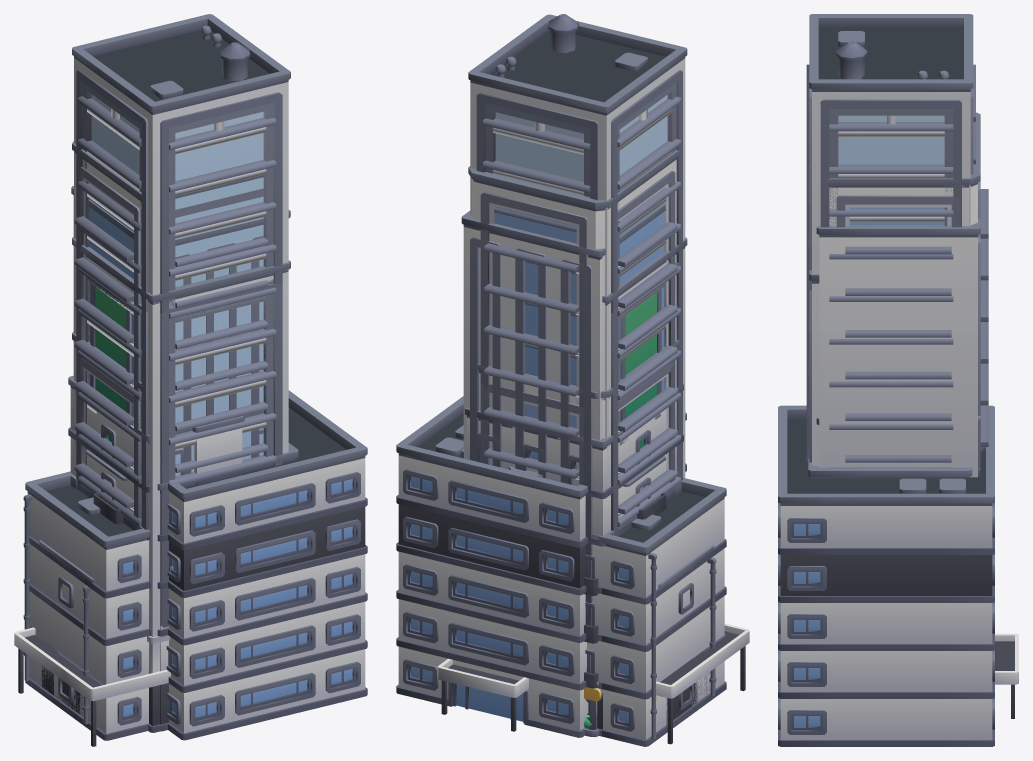
Rendered from commercial.glb.
3 views of the same model, side by side, from view 1: azimuth 30°, elevation 25°; view 2: azimuth 150°, elevation 25°; view 3: azimuth 270°, elevation 25° (orthographic).
Parts seen in each view (by area): view 1: building-skyscraper-d, building-n, building-skyscraper-c, building-j, building-skyscraper-b, building-skyscraper-e, building-k, building-skyscraper-a, building-m, building-l; view 2: building-n, building-skyscraper-d, building-skyscraper-b, building-skyscraper-e, building-j, building-m, building-skyscraper-a, building-skyscraper-c, building-k, building-i; view 3: building-n, building-skyscraper-d, building-skyscraper-e, building-skyscraper-b, building-skyscraper-c, building-skyscraper-a, building-l.
Part boxes in pixels (box(x1,y1,x2,y2)): building-skyscraper-d: box(72, 14, 290, 635); building-n: box(14, 390, 367, 746); building-skyscraper-c: box(72, 237, 290, 732); building-j: box(23, 471, 158, 740); building-skyscraper-b: box(72, 141, 267, 526); building-skyscraper-e: box(71, 186, 290, 480); building-k: box(39, 540, 95, 730); building-skyscraper-a: box(72, 331, 267, 526); building-m: box(68, 375, 263, 629); building-l: box(93, 443, 298, 731); building-n: box(396, 396, 749, 744); building-skyscraper-d: box(468, 14, 687, 535); building-skyscraper-b: box(468, 150, 680, 535); building-skyscraper-e: box(461, 204, 665, 729); building-j: box(583, 478, 726, 746); building-m: box(464, 383, 683, 736); building-skyscraper-a: box(477, 339, 680, 729); building-skyscraper-c: box(525, 237, 687, 536); building-k: box(656, 545, 716, 730); building-i: box(584, 477, 684, 728); building-n: box(778, 405, 1018, 746); building-skyscraper-d: box(806, 14, 975, 468); building-skyscraper-e: box(816, 218, 980, 477); building-skyscraper-b: box(808, 112, 988, 457); building-skyscraper-c: box(806, 270, 953, 468); building-skyscraper-a: box(808, 363, 988, 462); building-l: box(808, 447, 985, 479).
Bounding box in the file's own units: 4.06 × 9.57 × 3.19.
1 material, 1 textured.
